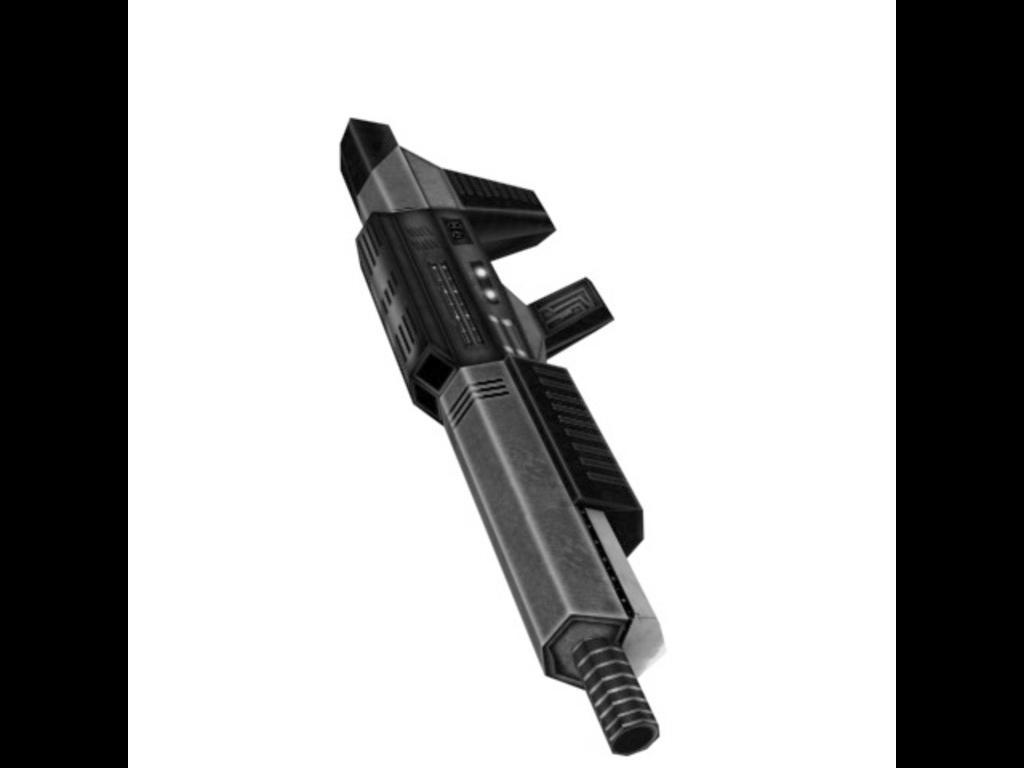gun: (332, 118, 660, 762)
